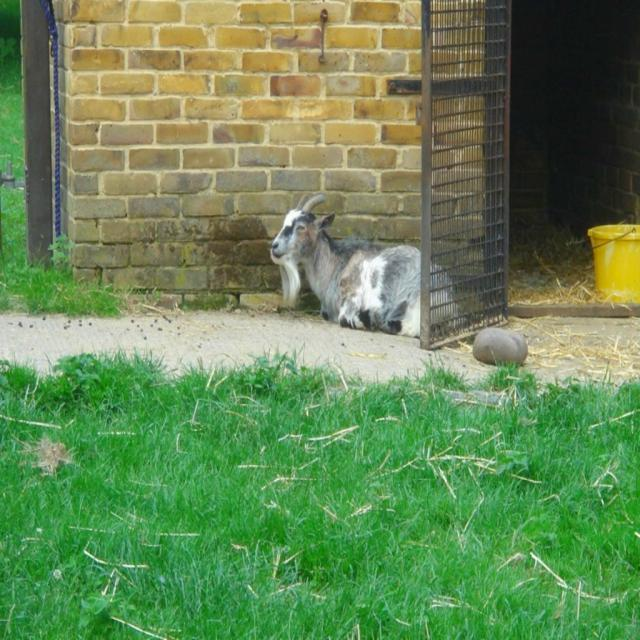Goat: (270, 192, 460, 338)
